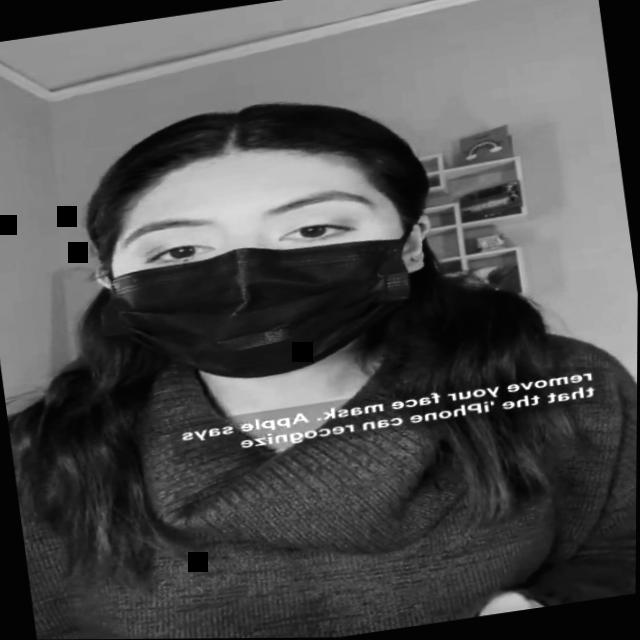Mask: (67, 114, 456, 409)
